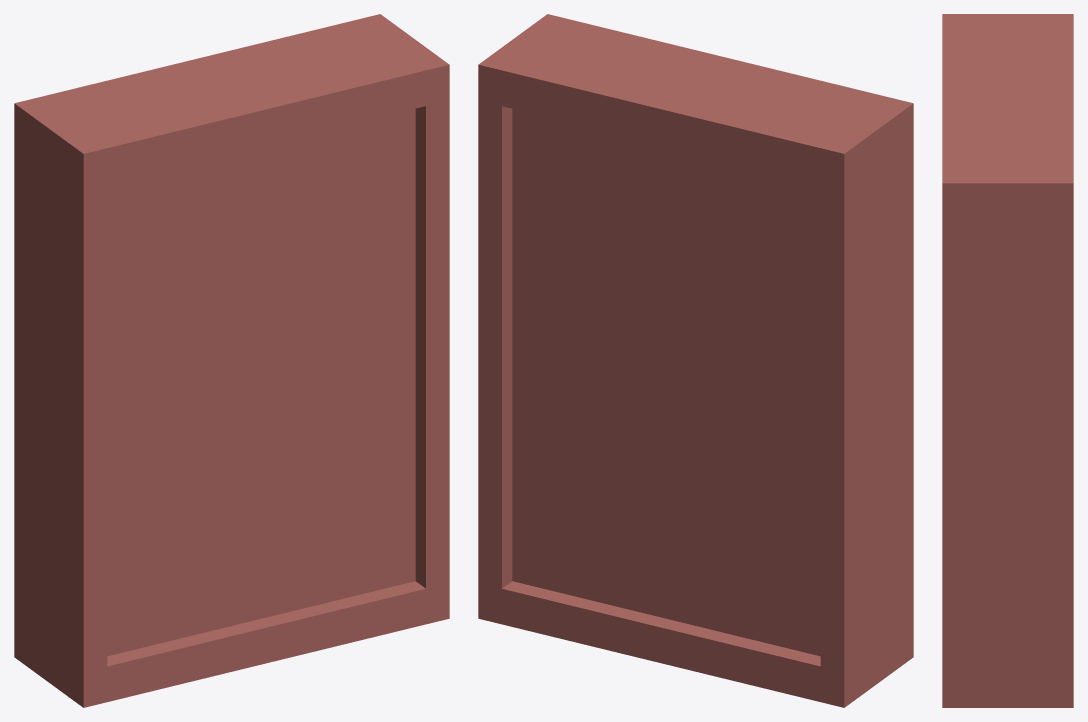
The model's file is Door.glb.
3 views of the same model, side by side, from view 1: azimuth 30°, elevation 25°; view 2: azimuth 150°, elevation 25°; view 3: azimuth 270°, elevation 25° (orthographic). The views are drawn at different scales.
Parts seen in each view (by area): view 1: Door; view 2: Door; view 3: Door.
Boxes of the visible parts, x1=… form: Door: x1=14, y1=14, x2=449, y2=707; Door: x1=478, y1=14, x2=913, y2=707; Door: x1=942, y1=14, x2=1073, y2=707.
Size of the model in its own units: 15.26 by 22.06 by 5.
